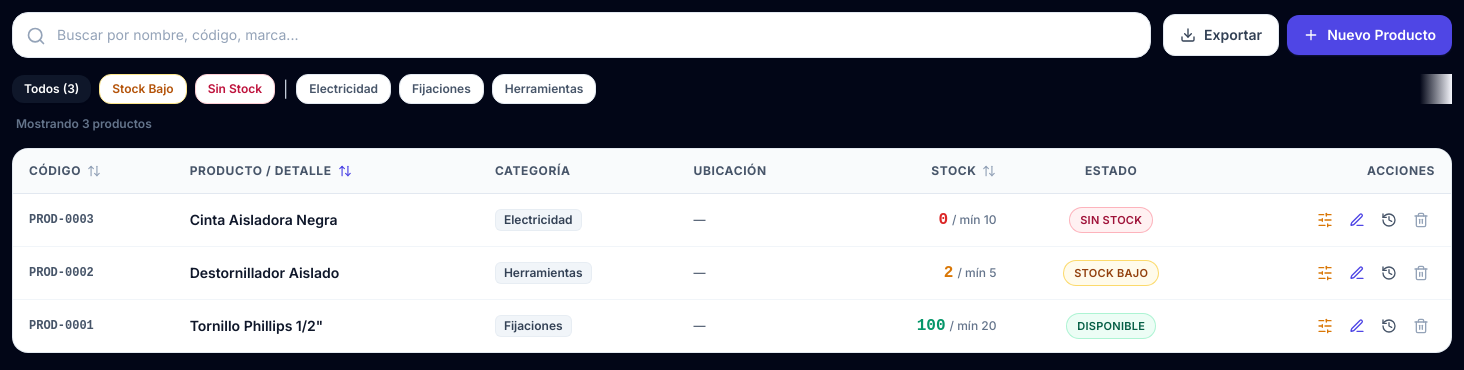
ProductsView Component › filtra por nivel de stock: Stock Bajo y Sin Stock
The image size is (1464, 370).
Click en botón "Stock Bajo"
Click the button "Stock Bajo". click: (143, 89)
box: left=99, top=74, right=187, bottom=104
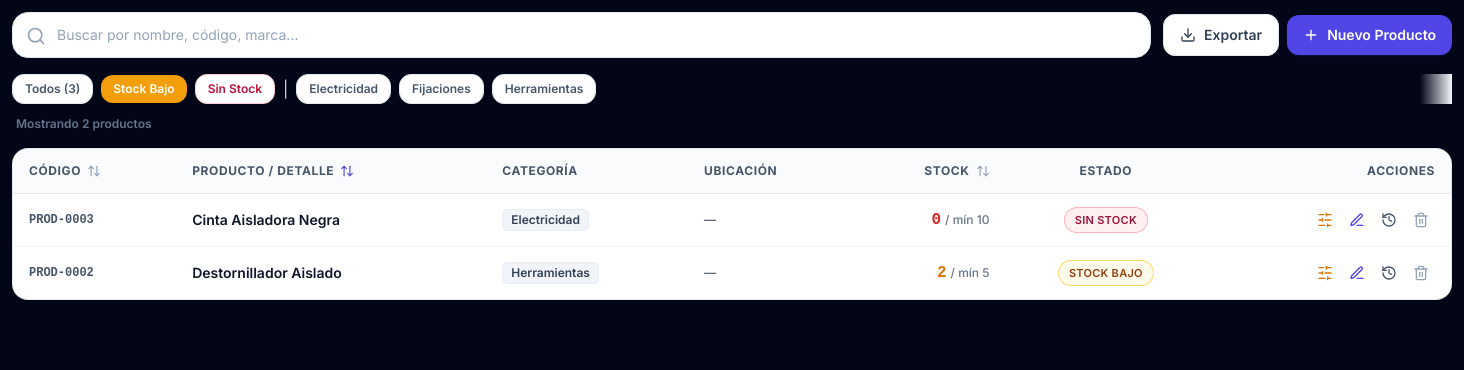
Check: the text "Mostrando 2 productos" is shown, box left=16, top=116, right=152, bottom=131
Click en botón "Sin Stock"
Click the button "Sin Stock". click: (235, 89)
box: left=195, top=74, right=275, bottom=104
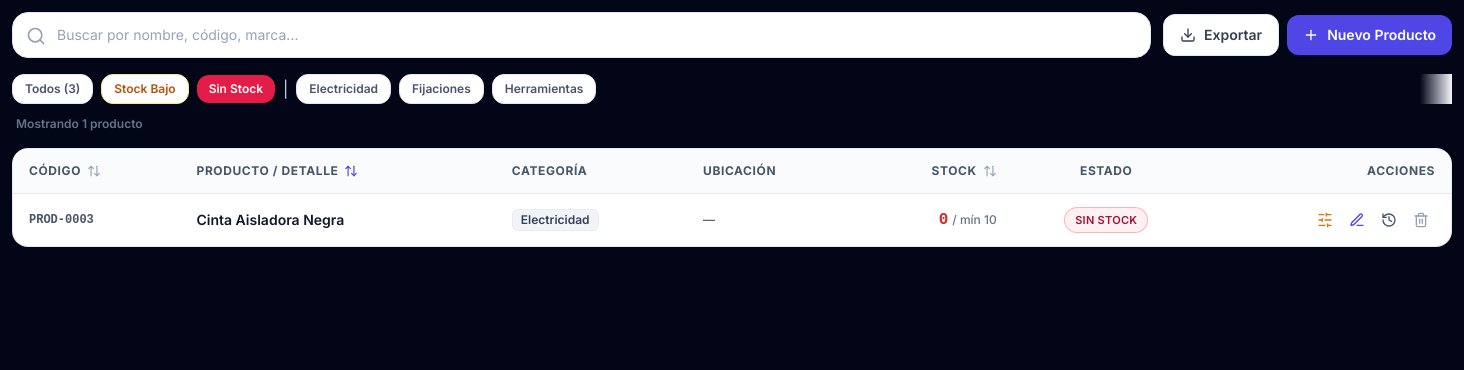
Check: the text "Cinta Aisladora Negra" is shown, box left=196, top=211, right=344, bottom=228
Check: the text "Mostrando 1 producto" is shown, box left=16, top=116, right=143, bottom=131
